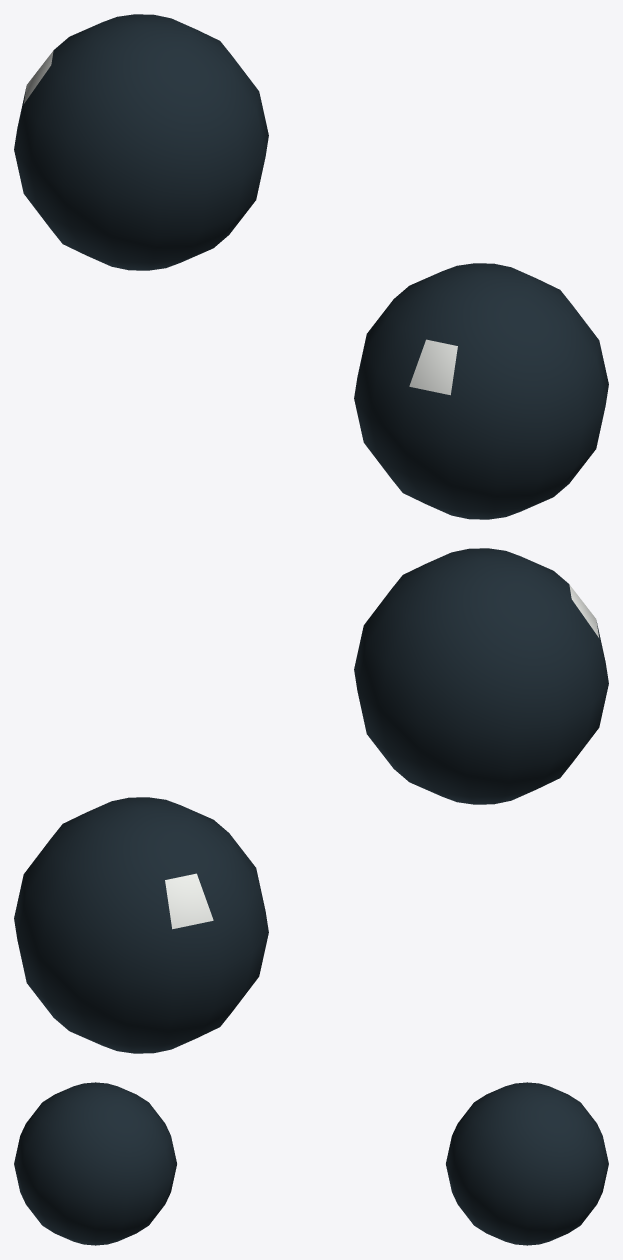
The model's file is Moose Eyes.fbx.
3 renders of one model, top to bottom at view 1: azimuth 30°, elevation 25°; view 2: azimuth 150°, elevation 25°; view 3: azimuth 270°, elevation 25°, orthographic. The views are drawn at different scales.
Parts seen in each view (by area): view 1: Moose Eyes; view 2: Moose Eyes; view 3: Moose Eyes.
Boxes of the visible parts, x1,y1,x2,y2 form: Moose Eyes: (14,14,608,519); Moose Eyes: (14,548,608,1053); Moose Eyes: (14,1082,608,1245).
Size of the model in its own units: 0.3389 by 1.24 by 0.3389.
